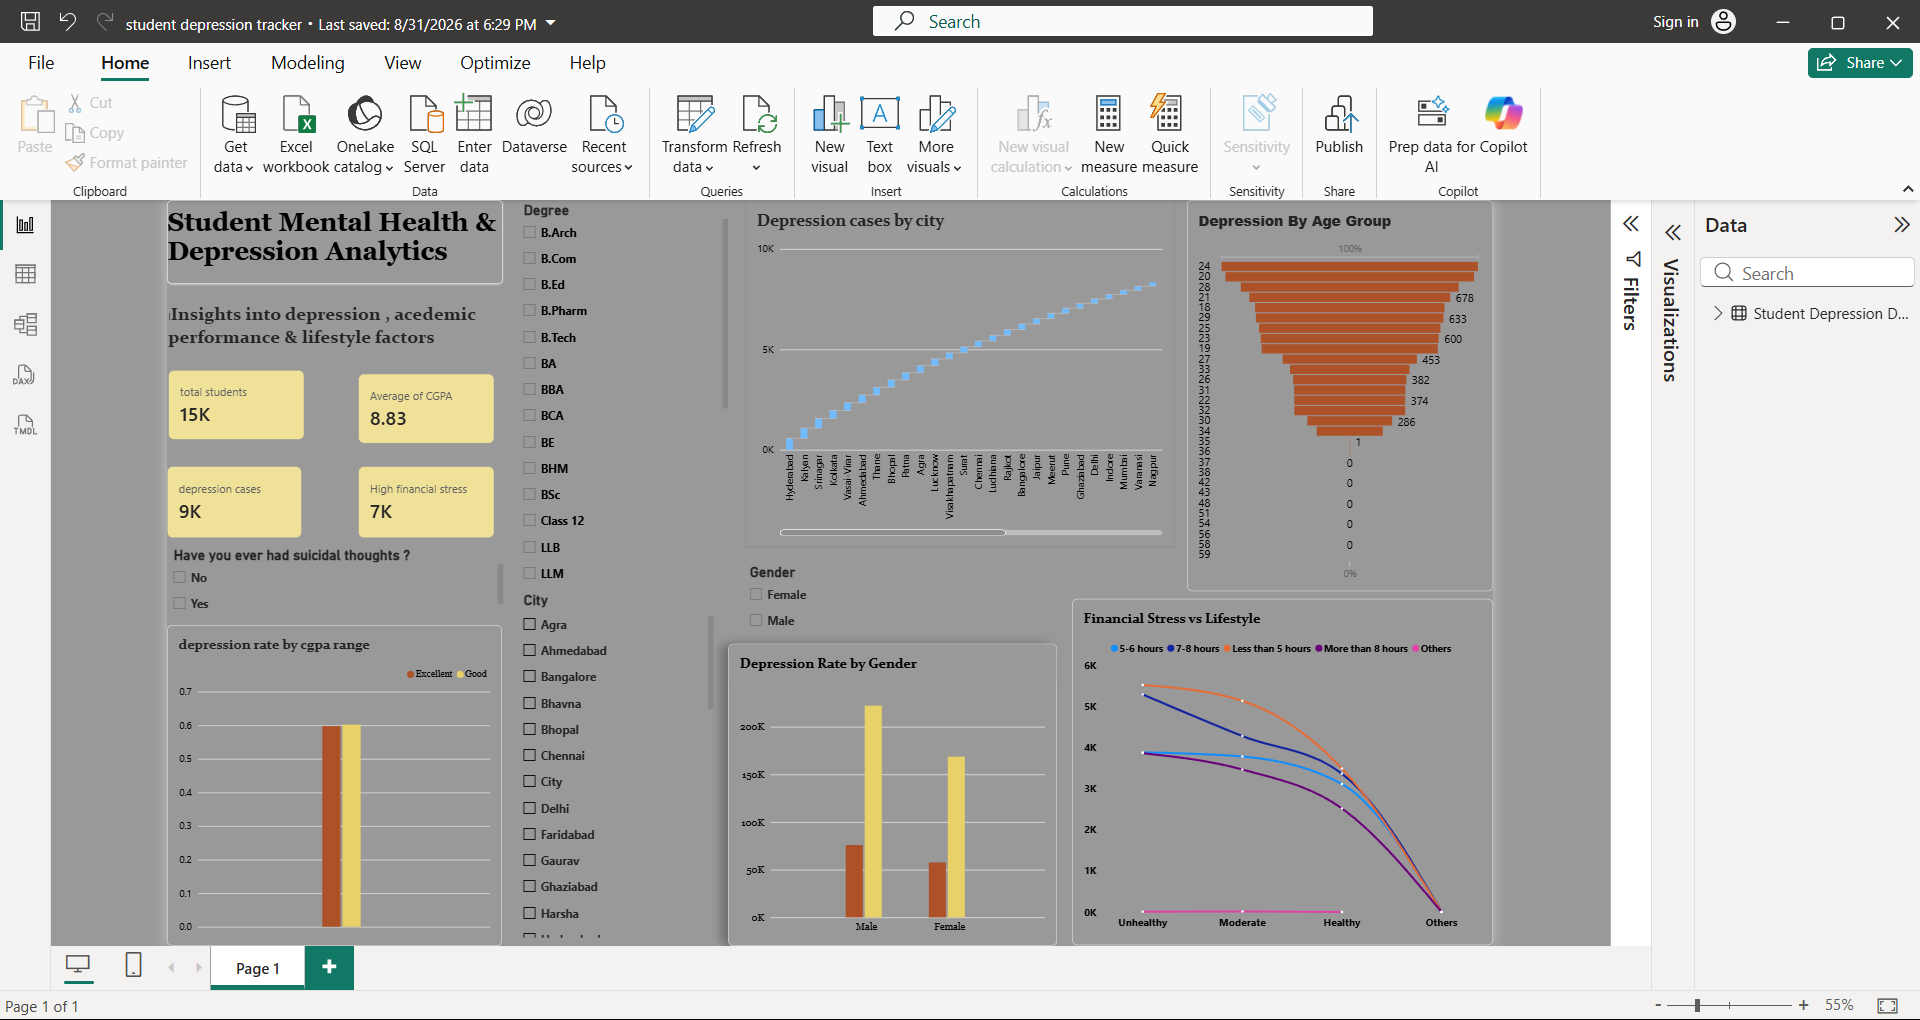

This screenshot's page, from the dashboard's own definition file:
{"tool":"powerbi","page":{"name":"Page 1","canvas":[1920,1080],"ordinal":0},"visuals":[{"type":"lineClusteredColumnComboChart","title":"Depression Rate by Gender","fields":{"Category":["Student Depression Dataset.Gender"],"Y":["Sum(Student Depression Dataset.CGPA)","Sum(Student Depression Dataset.Age)"]},"box":[812.5,642.4,475.9,437.9],"z":0},{"type":"areaChart","title":"Financial Stress vs Lifestyle","fields":{"Category":["Student Depression Dataset.Dietary Habits"],"Series":["Student Depression Dataset.Sleep Duration"],"Y":["Sum(Student Depression Dataset.Financial Stress)"]},"box":[1310.2,577.3,609.9,501.3],"z":2},{"type":"funnel","title":"Depression By Age Group","fields":{"Category":["Student Depression Dataset.Age"],"Y":["Sum(Student Depression Dataset.Depression)"]},"box":[1476.7,0,443.4,566.4],"z":3},{"type":"slicer","fields":{"Values":["Student Depression Dataset.Have you ever had suicidal thoughts ?"]},"box":[1.8,501.3,485,95.9],"z":7},{"type":"slicer","fields":{"Values":["Student Depression Dataset.Degree"]},"box":[508.5,1.8,304,566.4],"z":8},{"type":"textbox","box":[0,0,486.8,121.2],"z":9},{"type":"waterfallChart","title":"Depression cases by city","fields":{"Category":["Student Depression Dataset.City"],"Y":["Sum(Student Depression Dataset.Depression)"]},"box":[837.9,0,618.9,501.3],"z":10},{"type":"slicer","fields":{"Values":["Student Depression Dataset.City"]},"box":[508.5,566.4,282.3,501.3],"z":11},{"type":"slicer","fields":{"Values":["Student Depression Dataset.Gender"]},"box":[836.1,526.6,474.1,101.3],"z":15},{"type":"textbox","box":[1.8,148.4,483.2,97.7],"z":16},{"type":"cardVisual","fields":{"Data":["Student Depression Dataset.depression cases"]},"box":[0,385.5,195.4,105],"z":18},{"type":"cardVisual","fields":{"Data":["Avg(Student Depression Dataset.CGPA)"]},"box":[276.9,251.5,197.3,101.3],"z":19},{"type":"cardVisual","fields":{"Data":["Student Depression Dataset.High financial stress"]},"box":[276.9,385.5,197.3,105],"z":20},{"type":"cardVisual","fields":{"Data":["Student Depression Dataset.total students"]},"box":[1.8,246.1,197.3,101.3],"z":23},{"type":"clusteredColumnChart","title":"depression rate by cgpa range","fields":{"Series":["Student Depression Dataset.Range Of CGPA"],"Y":["Student Depression Dataset.depression rate"]},"box":[0,615.3,485,465.1],"z":24}]}

Visuals, with their boxes on the page's 1920x1080 design canvas (x1, y1, x2, y2). These are canvas units, not pixel positions in the 1920x1020 screenshot, which may show the page scaled, cropped or inside an application window:
"Depression Rate by Gender" lineClusteredColumnComboChart: locate(812, 642, 1288, 1080)
"Financial Stress vs Lifestyle" areaChart: locate(1310, 577, 1920, 1079)
"Depression By Age Group" funnel: locate(1477, 0, 1920, 566)
slicer - Student Depression Dataset.Have you ever had suicidal thoughts ?: locate(2, 501, 487, 597)
slicer - Student Depression Dataset.Degree: locate(508, 2, 812, 568)
textbox: locate(0, 0, 487, 121)
"Depression cases by city" waterfallChart: locate(838, 0, 1457, 501)
slicer - Student Depression Dataset.City: locate(508, 566, 791, 1068)
slicer - Student Depression Dataset.Gender: locate(836, 527, 1310, 628)
textbox: locate(2, 148, 485, 246)
cardVisual - Student Depression Dataset.depression cases: locate(0, 386, 195, 490)
cardVisual - Avg(Student Depression Dataset.CGPA): locate(277, 252, 474, 353)
cardVisual - Student Depression Dataset.High financial stress: locate(277, 386, 474, 490)
cardVisual - Student Depression Dataset.total students: locate(2, 246, 199, 347)
"depression rate by cgpa range" clusteredColumnChart: locate(0, 615, 485, 1080)
